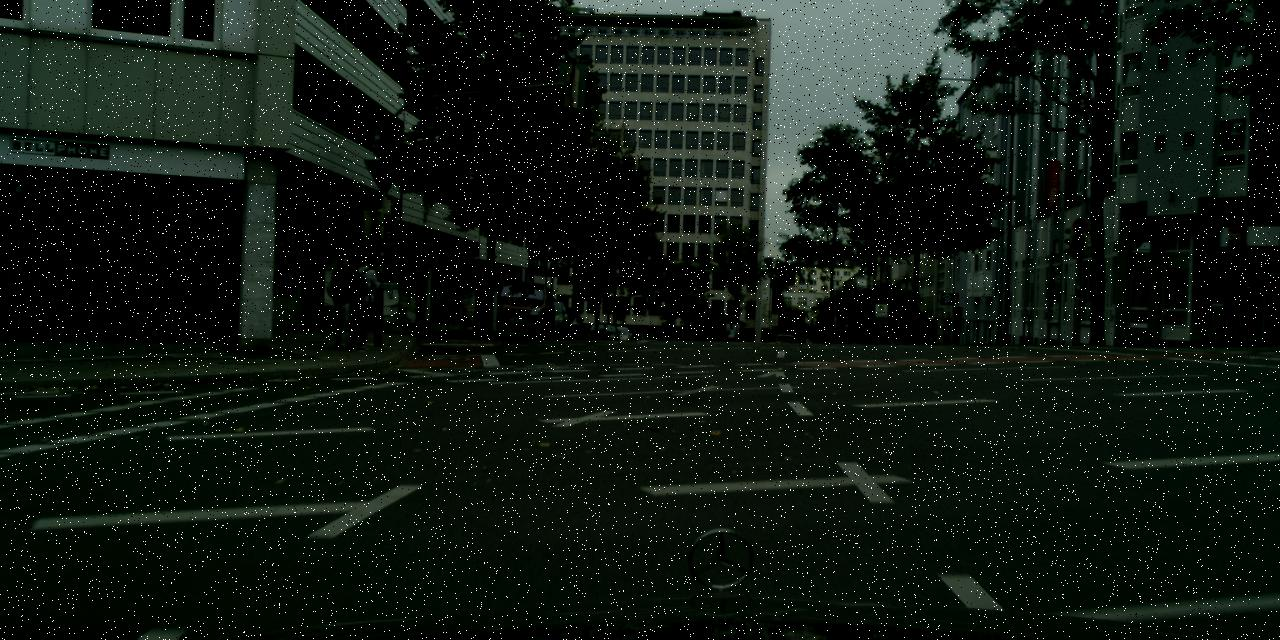ped: (340, 252, 380, 350), (322, 254, 362, 350), (834, 314, 848, 348)
